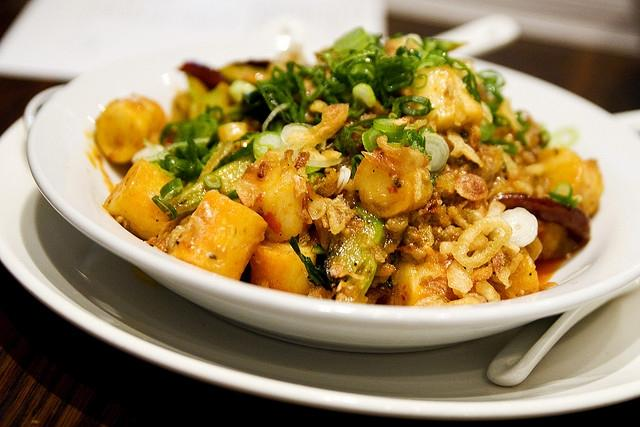green onion: (290, 237, 332, 292), (494, 207, 538, 247), (332, 26, 372, 58), (422, 132, 450, 174), (332, 48, 376, 74), (253, 131, 282, 160), (345, 58, 375, 86), (381, 67, 415, 91), (280, 123, 314, 146), (476, 70, 506, 94), (399, 95, 431, 116), (376, 56, 408, 76), (152, 196, 178, 220), (548, 190, 579, 208), (362, 126, 382, 152), (373, 118, 408, 132), (165, 155, 189, 175), (479, 117, 495, 142), (553, 180, 573, 198), (295, 64, 315, 80), (424, 54, 446, 67), (194, 122, 211, 138), (492, 112, 509, 127), (538, 130, 552, 148), (272, 66, 286, 84), (266, 91, 280, 108), (470, 74, 480, 94), (428, 50, 446, 58)
